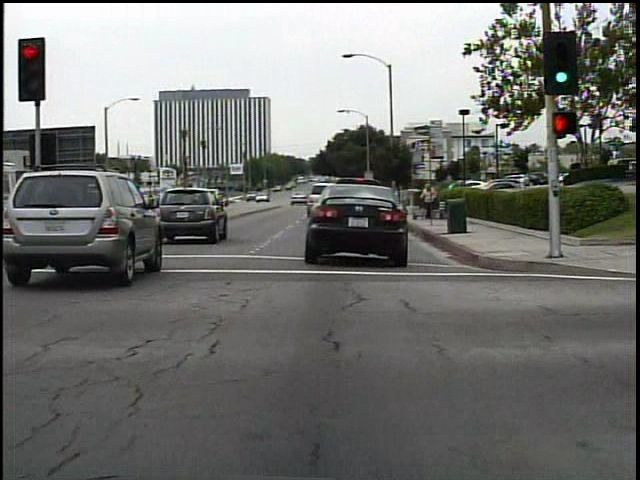person: (417, 179, 438, 223)
